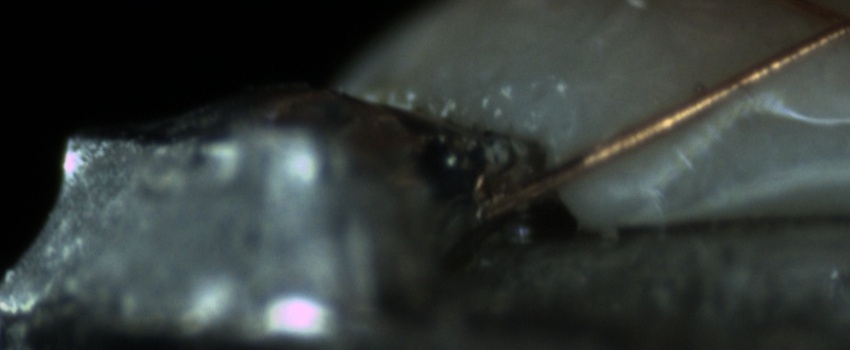CL: (807, 3, 850, 44)
